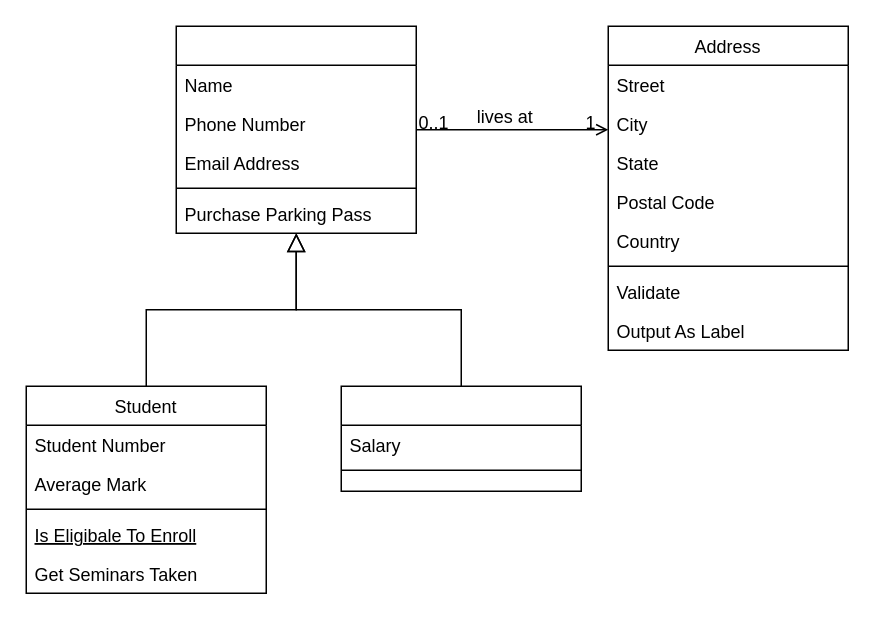
This 875x624 diagram has some shape labels left out. Each missing label, with the box of its shape:
Item: (175, 25, 416, 233)
Professor: (340, 385, 581, 491)
